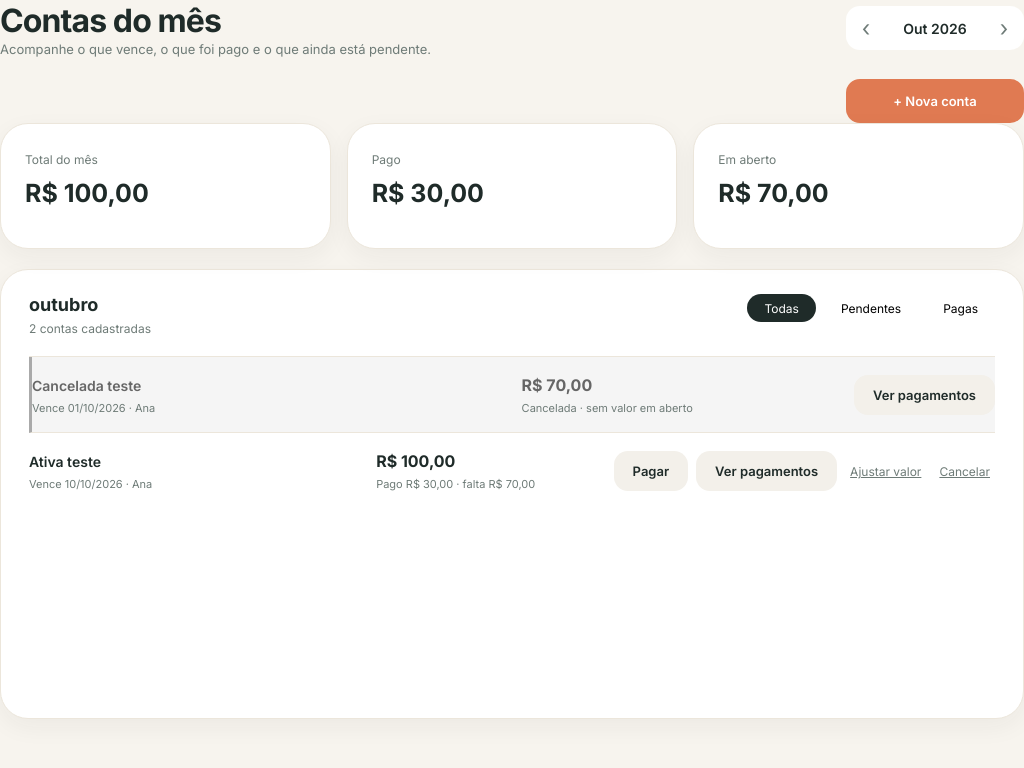
Test case: permite entender o valor pago mesmo após cancelamento
Click the button "Ver pagamentos" in the row of "Cancelada teste".
click(924, 395)  # box [854, 375, 995, 415]
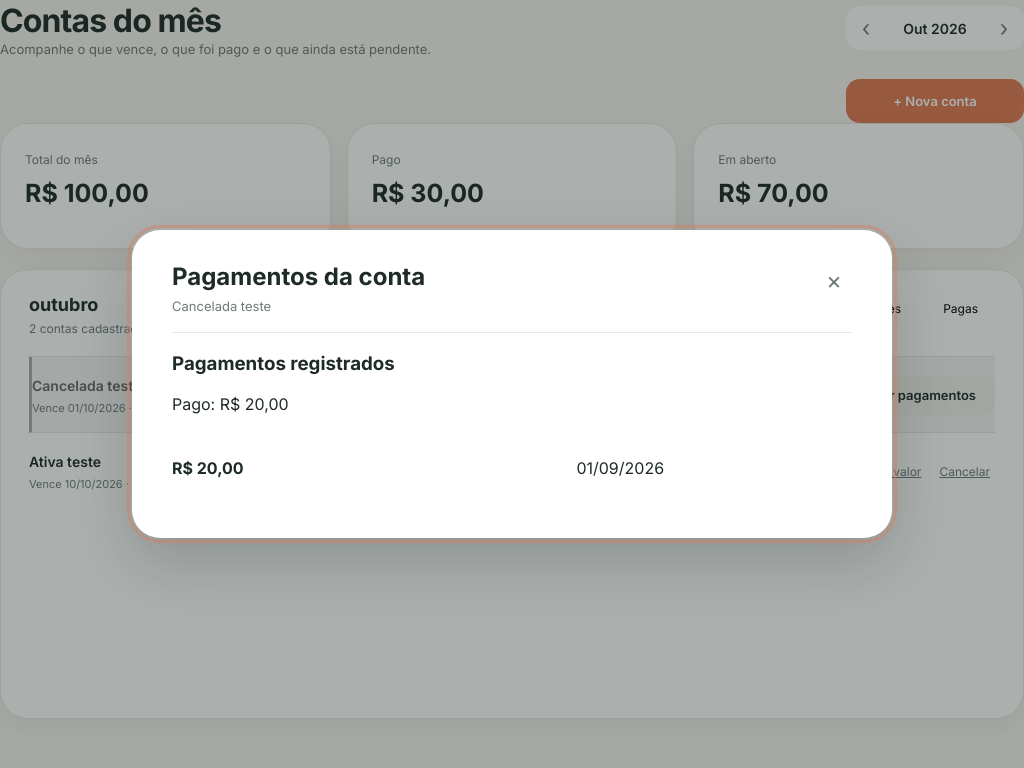
Check: the text "Pago: R$ 20,00" is shown, box [172, 394, 289, 414]
Check: the text "01/09/2026" is shown, box [576, 458, 664, 478]
